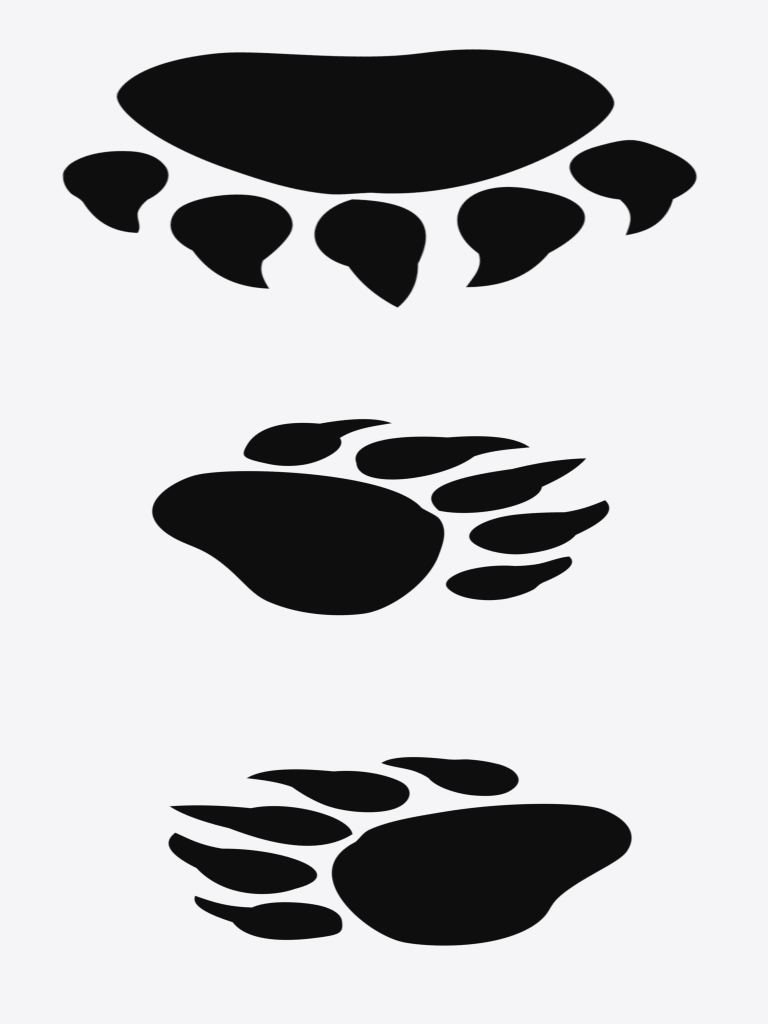
Rendered from territory_puma.glb.
3 views of the same model, one above another, from view 1: azimuth 30°, elevation 25°; view 2: azimuth 150°, elevation 25°; view 3: azimuth 270°, elevation 25° (orthographic). The views are drawn at different scales.
Visible parts, largest first — view 1: traces-3002020_1280; view 2: traces-3002020_1280; view 3: traces-3002020_1280.
Boxes of the visible parts, x1,y1,x2,y2 form: traces-3002020_1280: (62, 49, 696, 307); traces-3002020_1280: (152, 419, 609, 615); traces-3002020_1280: (168, 757, 631, 945).
Size of what is drawn, in the model's own units: 1.37 by 0.000582 by 1.37.
Materials: 1 (1 with a texture image).
